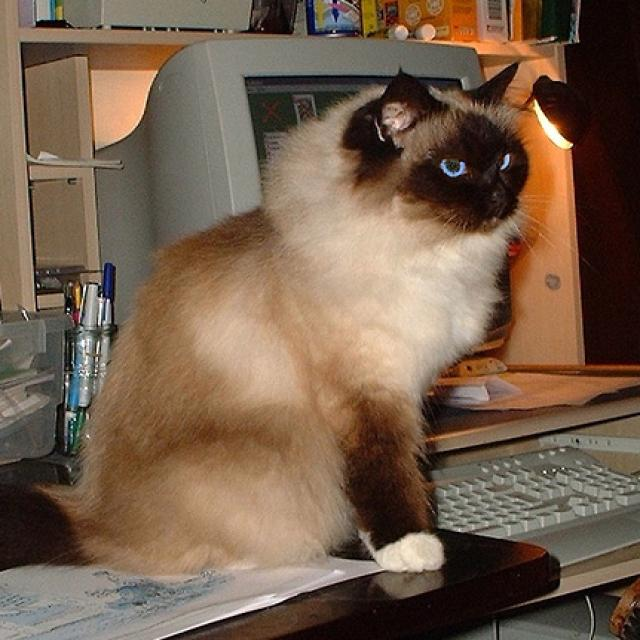Birman: (0, 54, 535, 575)
